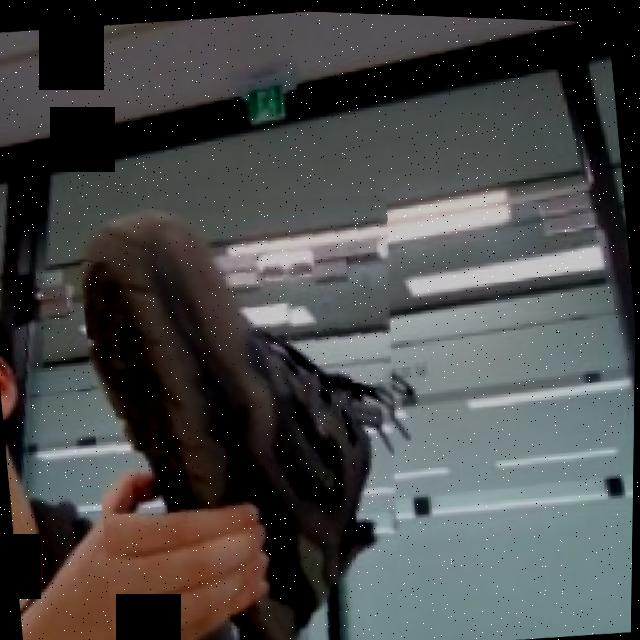shoe: (70, 168, 434, 640)
